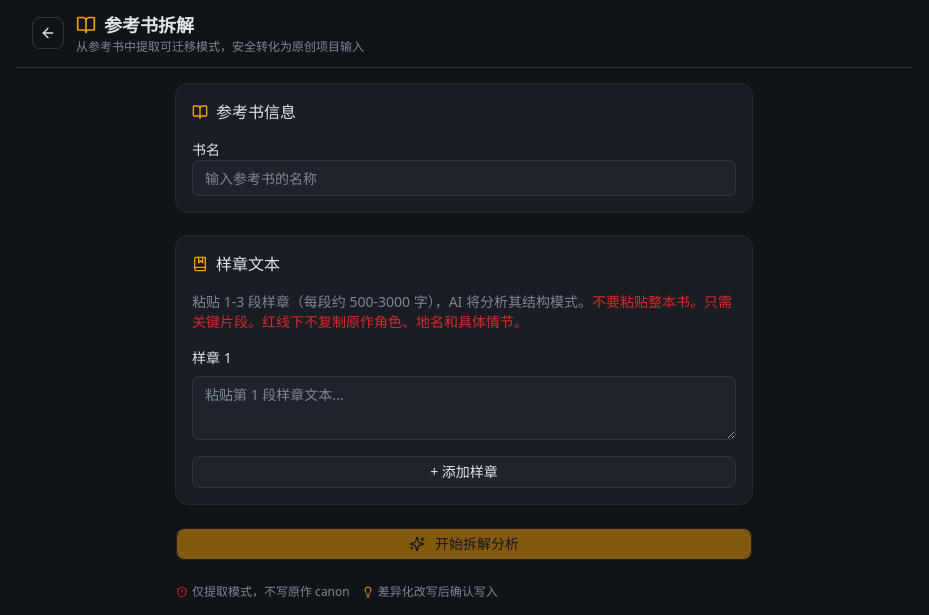
Scenario: DeconstructPage › shows preview with deconstruction tabs
Type "测试书" into the field with placeholder "输入参考书的名称" at (464, 178), box x1=192 y1=160 x2=736 y2=196
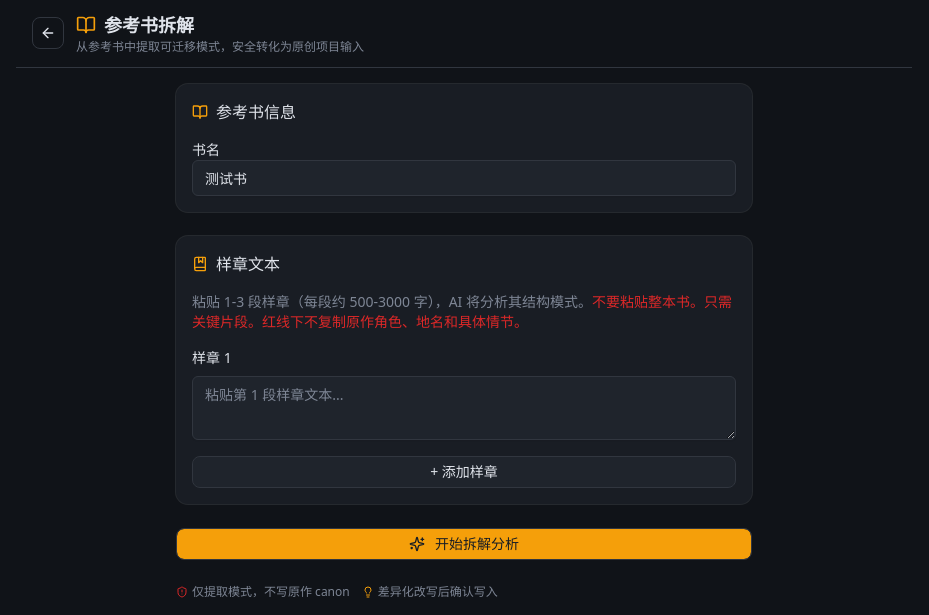
Type "样章内容" into the text box with placeholder "粘贴第 1 段样章文本..." at (464, 408), box x1=192 y1=376 x2=736 y2=440
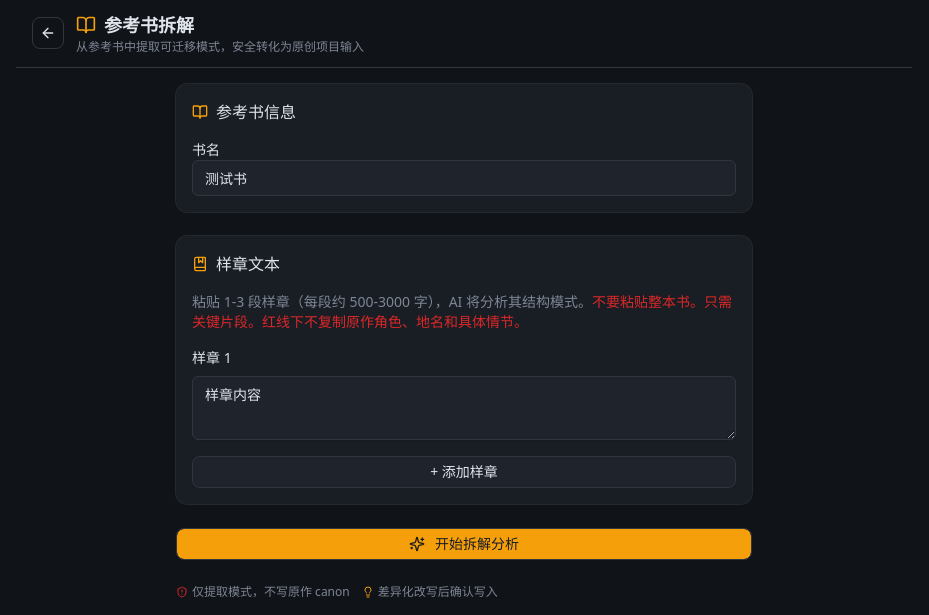
Click the button "开始拆解分析" at (464, 544), box x1=176 y1=528 x2=752 y2=560
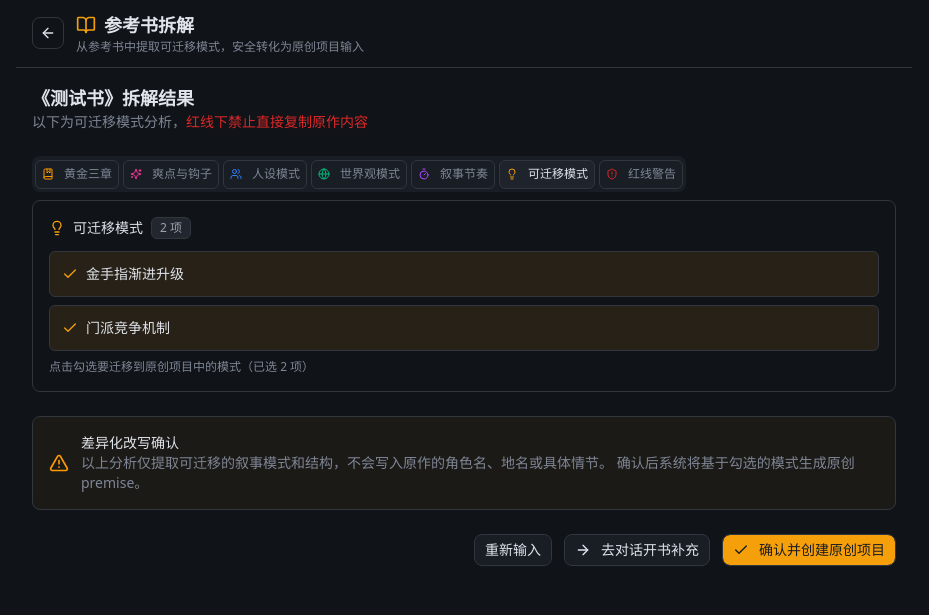
expect the heading "《测试书》拆解结果" is shown: met, box x1=32 y1=86 x2=194 y2=110
expect the tab "黄金三章" is shown: met, box x1=35 y1=160 x2=119 y2=188
expect the text "金手指渐进升级" is shown: met, box x1=86 y1=264 x2=184 y2=283
